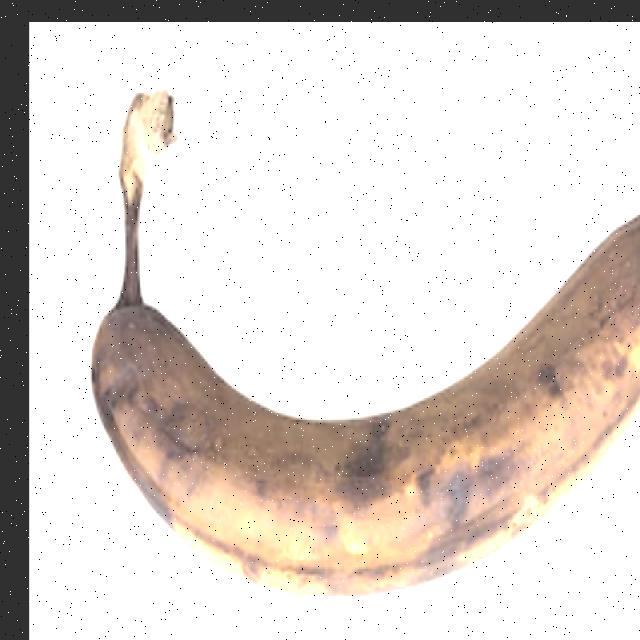Rotten: (56, 75, 640, 612)
